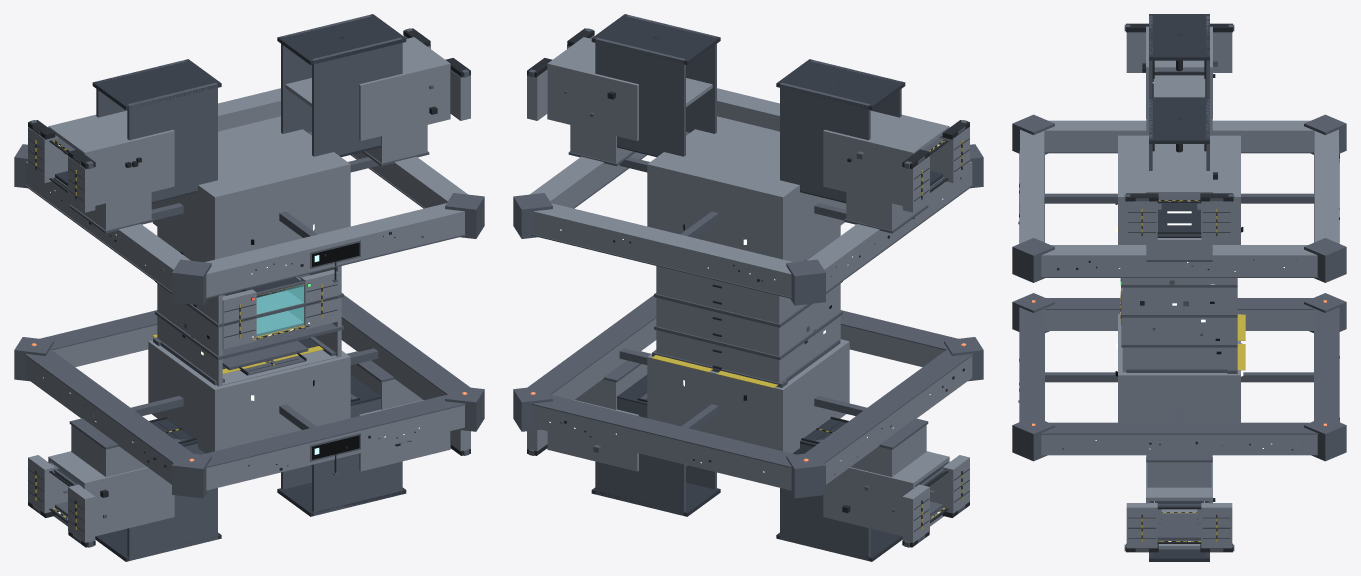
Rendered from ring-m.glb.
3 renders of one model, left to right at view 1: azimuth 30°, elevation 25°; view 2: azimuth 150°, elevation 25°; view 3: azimuth 270°, elevation 25°, orthographic. The views are drawn at different scales.
Visible parts, largest first — view 1: hub (×2), ringRun0 (×2), ringHoist0ShaftWall0 (×2), ringHoist1ShaftWall1 (×2), berthPylon1Wall1 (×2), ringRun3 (×2), ringRun1 (×2), berthPylon0Wall0 (×2), ringHoist0PocketFloor (×2), joiningHubWall0, ringHoist1PocketFloor (×2), ringRun2 (×2) (+29 smaller); view 2: hub (×2), ringRun2 (×2), ringHoist0ShaftWall1 (×2), ringHoist1ShaftWall0 (×2), joiningHubAft, berthPylon1Wall0 (×2), berthPylon0Wall1 (×2), ringRun3 (×2), ringRun1 (×2), joiningHubWall0, ringHoist0PocketFloor (×2), ringRun0 (×2) (+22 smaller); view 3: ringRun1 (×2), hub (×2), ringRun3 (×2), joiningHubWall1, ringHoist0PocketFloor (×2), ringRail1, ringHoist1PocketFloor, ringRail0, ringRail2, berthPylon1Floor, ringRun0, ringRun2 (+22 smaller).
Part boxes in pixels (x1,y1,x2,y2): hub (×2): (148, 116, 350, 453); ringRun0 (×2): (205, 203, 464, 490); ringHoist0ShaftWall0 (×2): (127, 82, 402, 515); ringHoist1ShaftWall1 (×2): (127, 37, 402, 560); berthPylon1Wall1 (×2): (82, 62, 450, 535); ringRun3 (×2): (25, 152, 467, 484); ringRun1 (×2): (25, 161, 446, 400); berthPylon0Wall0 (×2): (82, 130, 450, 470); ringHoist0PocketFloor (×2): (92, 59, 406, 516); joiningHubWall0: (159, 227, 222, 386); ringHoist1PocketFloor (×2): (95, 14, 406, 561); ringRun2 (×2): (52, 88, 280, 367); hub (×2): (647, 116, 849, 453); ringRun2 (×2): (533, 203, 792, 490); ringHoist0ShaftWall1 (×2): (595, 82, 870, 515); ringHoist1ShaftWall0 (×2): (595, 37, 870, 560); joiningHubAft: (656, 266, 779, 381); berthPylon1Wall0 (×2): (547, 62, 915, 535); berthPylon0Wall1 (×2): (547, 130, 911, 470); ringRun3 (×2): (530, 152, 972, 484); ringRun1 (×2): (551, 161, 972, 400); joiningHubWall0: (775, 226, 840, 382); ringHoist0PocketFloor (×2): (591, 59, 905, 516); ringRun0 (×2): (717, 88, 945, 367); ringRun1 (×2): (1041, 120, 1317, 455); hub (×2): (1118, 135, 1240, 422); ringRun3 (×2): (1041, 245, 1317, 330); joiningHubWall1: (1122, 278, 1236, 371); ringHoist0PocketFloor (×2): (1149, 14, 1209, 561); ringRail1: (1040, 422, 1318, 434); ringHoist1PocketFloor: (1149, 97, 1209, 143); ringRail0: (1019, 307, 1044, 421); ringRail2: (1314, 307, 1339, 421); berthPylon1Floor: (1146, 151, 1212, 195); ringRun0: (1020, 129, 1044, 243); ringRun2: (1314, 129, 1338, 243).
Size of the model in its own units: 55.18 by 61.9 by 44.5.
